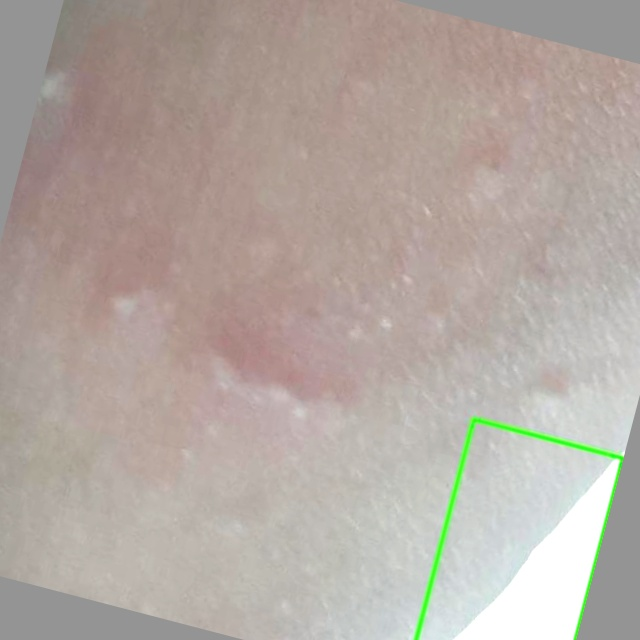Scabies: (416, 419, 622, 639)
